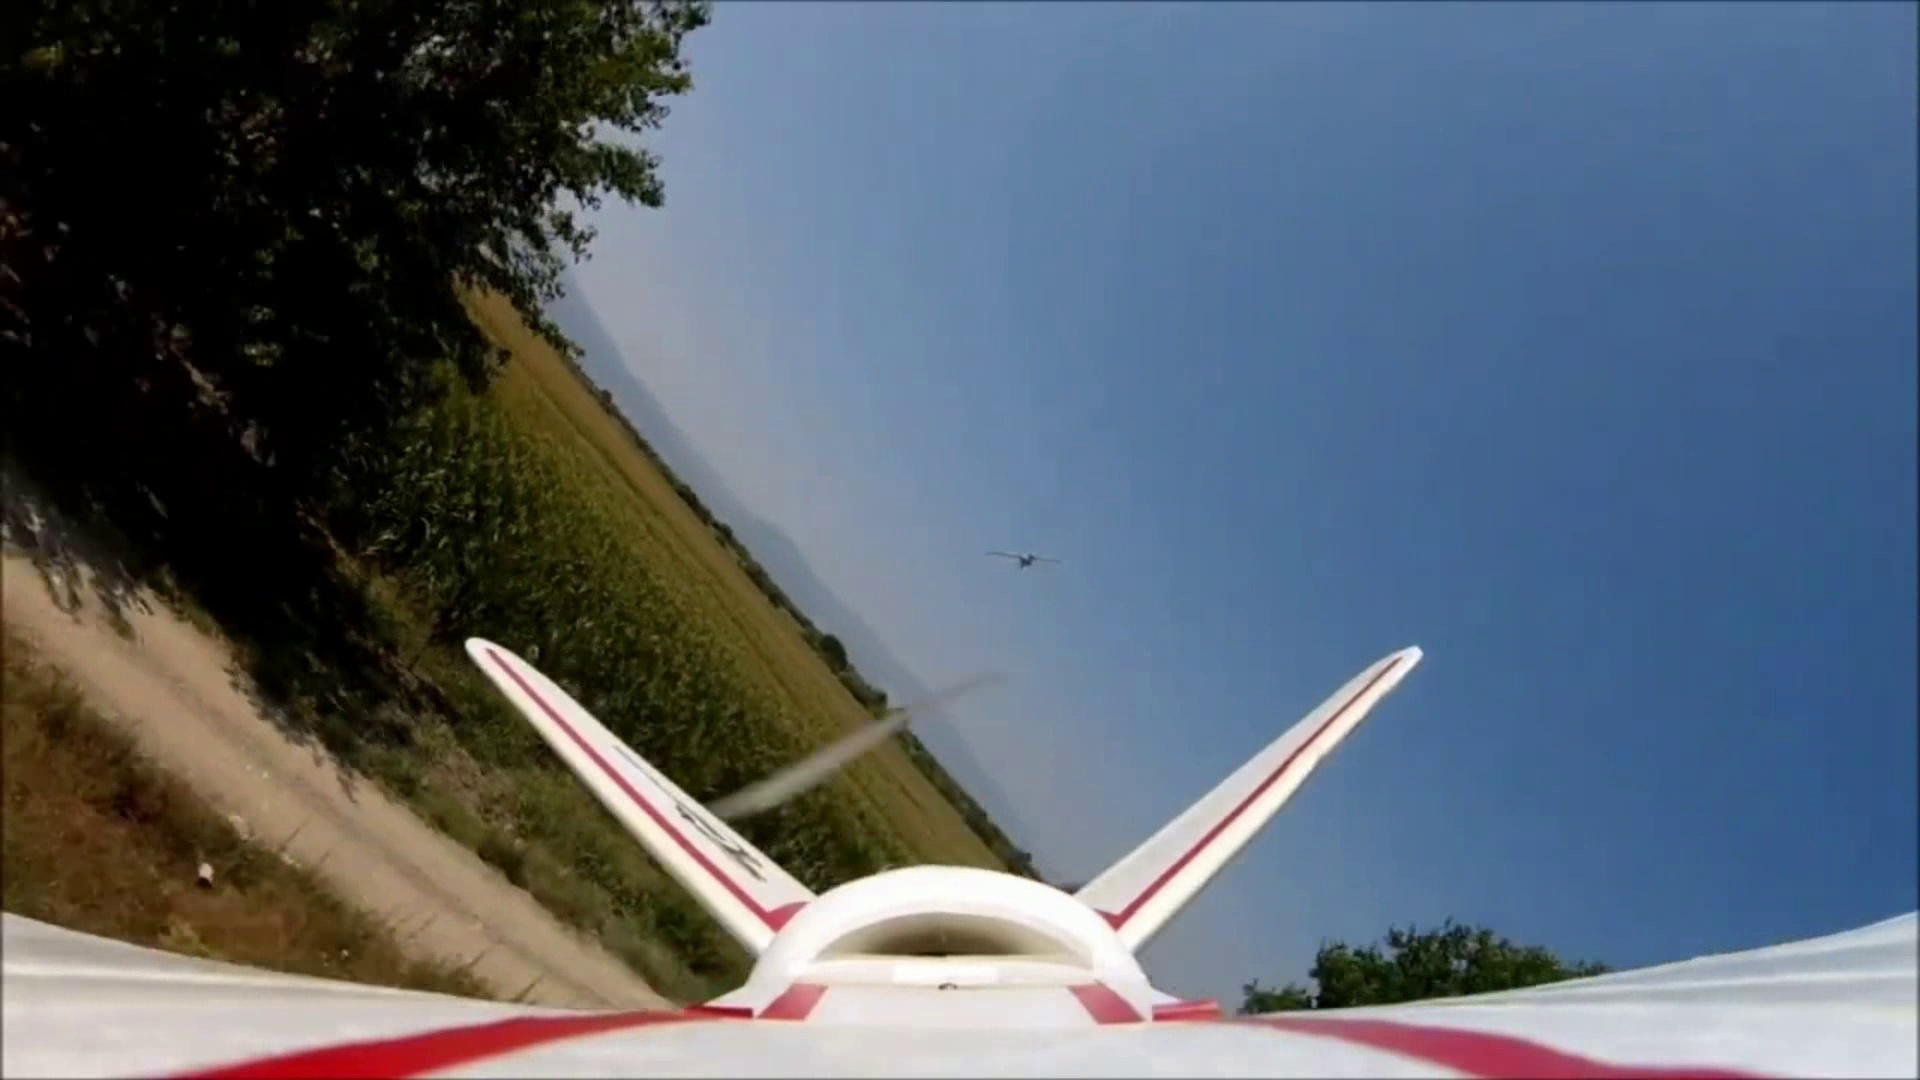airplane: (7, 633, 1902, 1069)
